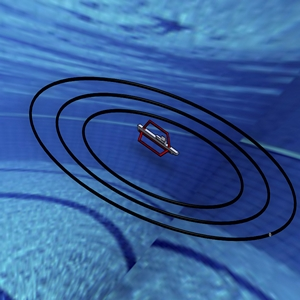circle: (16, 67, 298, 254)
submarine: (129, 115, 181, 170)
